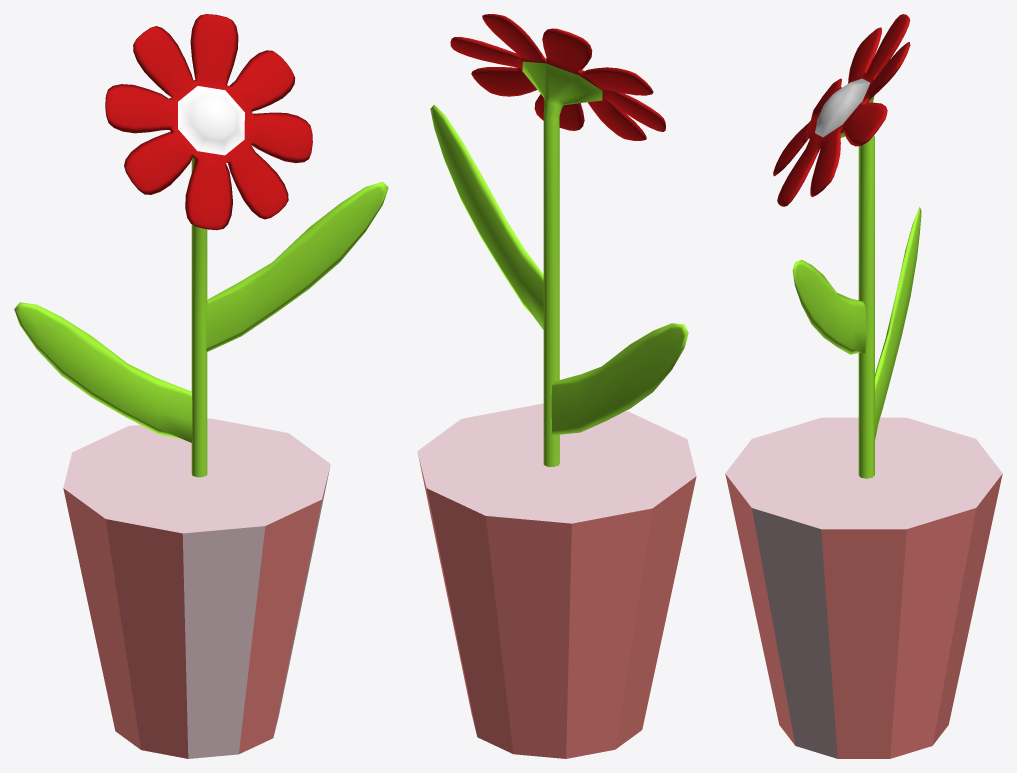
File: k_çiçek.obj
The picture shows the model from 3 angles, left to right: view 1: azimuth 30°, elevation 25°; view 2: azimuth 150°, elevation 25°; view 3: azimuth 270°, elevation 25°; orthographic projection. The views are drawn at different scales.
Visible parts, largest first — view 1: Cylinder.116_m_softred, Cylinder.116_m_softired, Cylinder.116_m_red, Cylinder.116_m_açıkgreen, Cylinder.116_m_beyaz; view 2: Cylinder.116_m_softired, Cylinder.116_m_softred, Cylinder.116_m_açıkgreen, Cylinder.116_m_red; view 3: Cylinder.116_m_softired, Cylinder.116_m_softred, Cylinder.116_m_açıkgreen, Cylinder.116_m_red, Cylinder.116_m_beyaz.
Boxes of the visible parts, box(x1,y1,x2,y2) form: Cylinder.116_m_softred: box(63, 418, 330, 758); Cylinder.116_m_softired: box(63, 488, 321, 758); Cylinder.116_m_red: box(105, 14, 312, 230); Cylinder.116_m_açıkgreen: box(14, 157, 388, 477); Cylinder.116_m_beyaz: box(178, 86, 244, 155); Cylinder.116_m_softired: box(418, 454, 696, 758); Cylinder.116_m_softred: box(417, 403, 696, 523); Cylinder.116_m_açıkgreen: box(430, 61, 688, 466); Cylinder.116_m_red: box(450, 14, 665, 140); Cylinder.116_m_softired: box(725, 474, 1002, 758); Cylinder.116_m_softred: box(725, 417, 1002, 758); Cylinder.116_m_açıkgreen: box(792, 96, 921, 478); Cylinder.116_m_red: box(773, 14, 910, 206); Cylinder.116_m_beyaz: box(815, 78, 869, 137).
Bounding box in the file's own units: 7.24 × 15.25 × 5.51.
